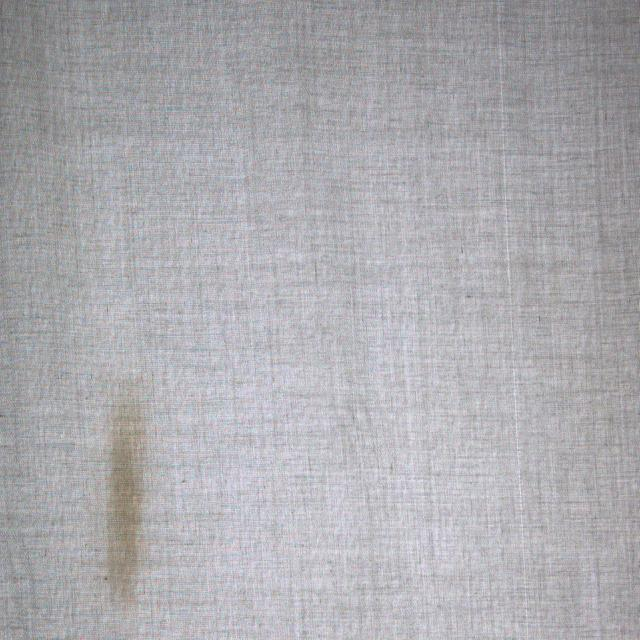dirty: (106, 381, 143, 600)
